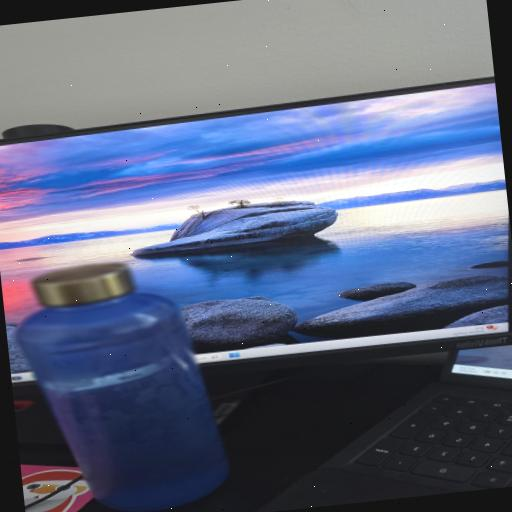bottle: (8, 251, 230, 502)
